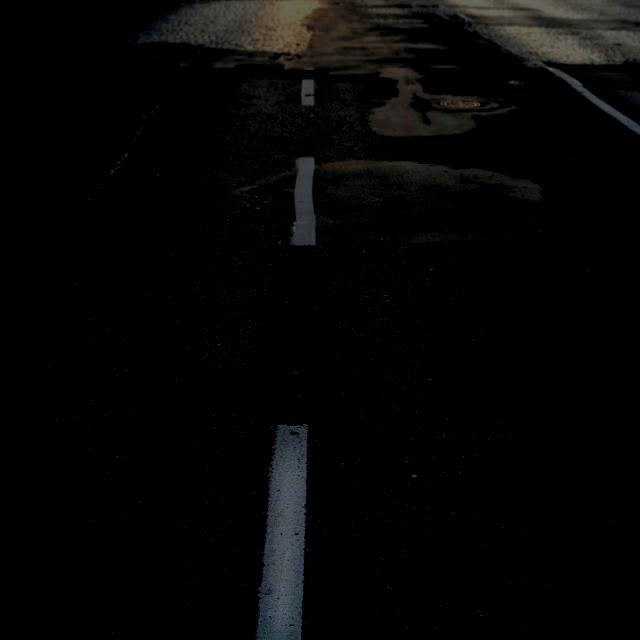Pothole: (63, 322, 456, 467), (225, 56, 334, 84)
